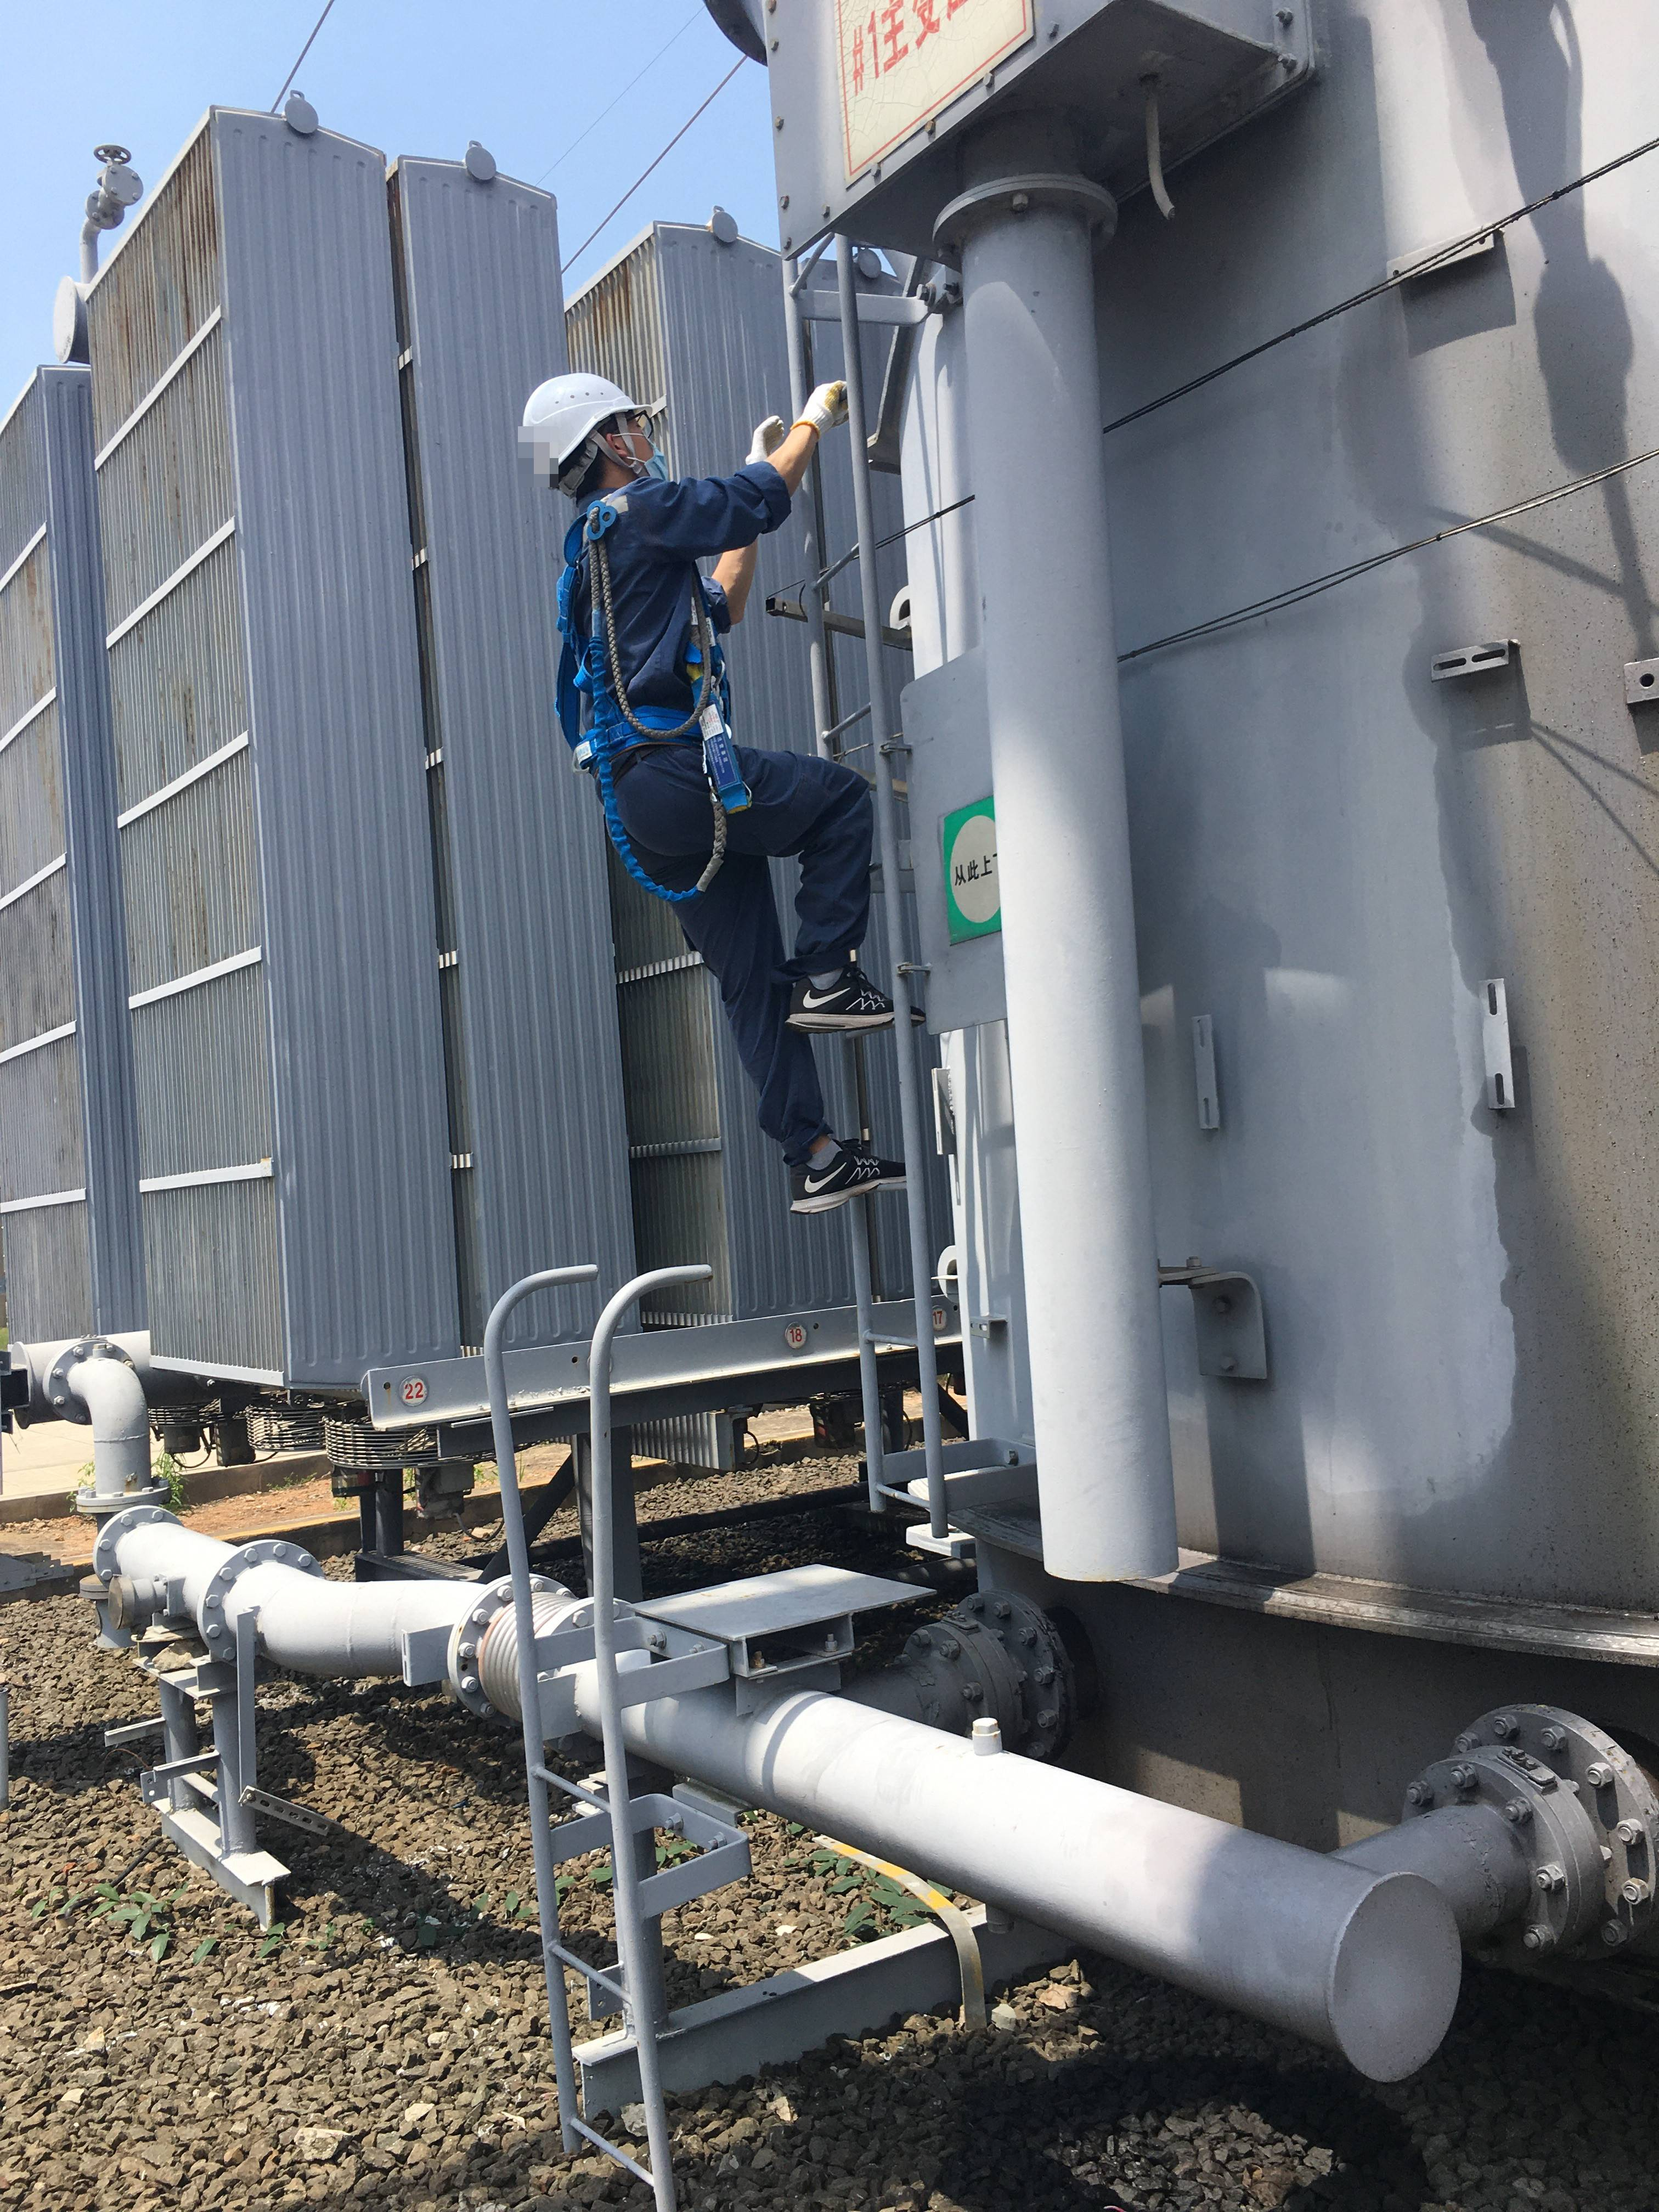downsuit: (619, 763, 889, 1162)
upsuit: (554, 491, 723, 751)
wrongtop: (723, 413, 830, 516)
